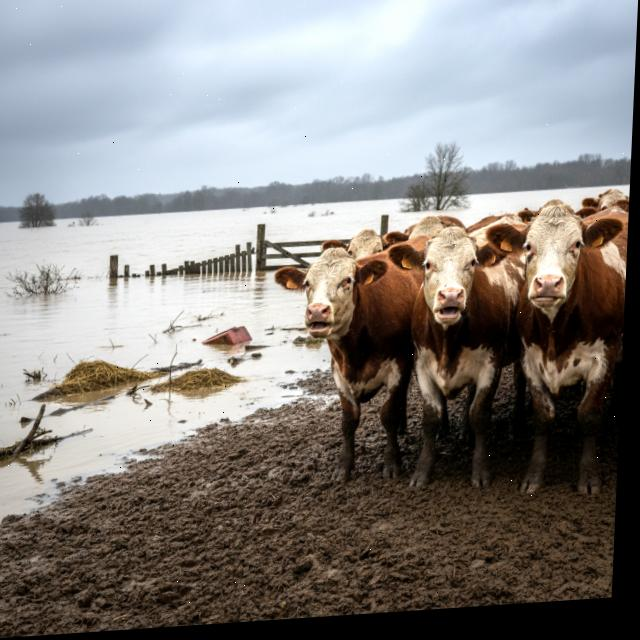cow: (248, 236, 450, 500), (471, 191, 630, 511), (371, 221, 540, 507), (383, 205, 539, 259), (323, 226, 405, 269), (572, 182, 630, 228)
